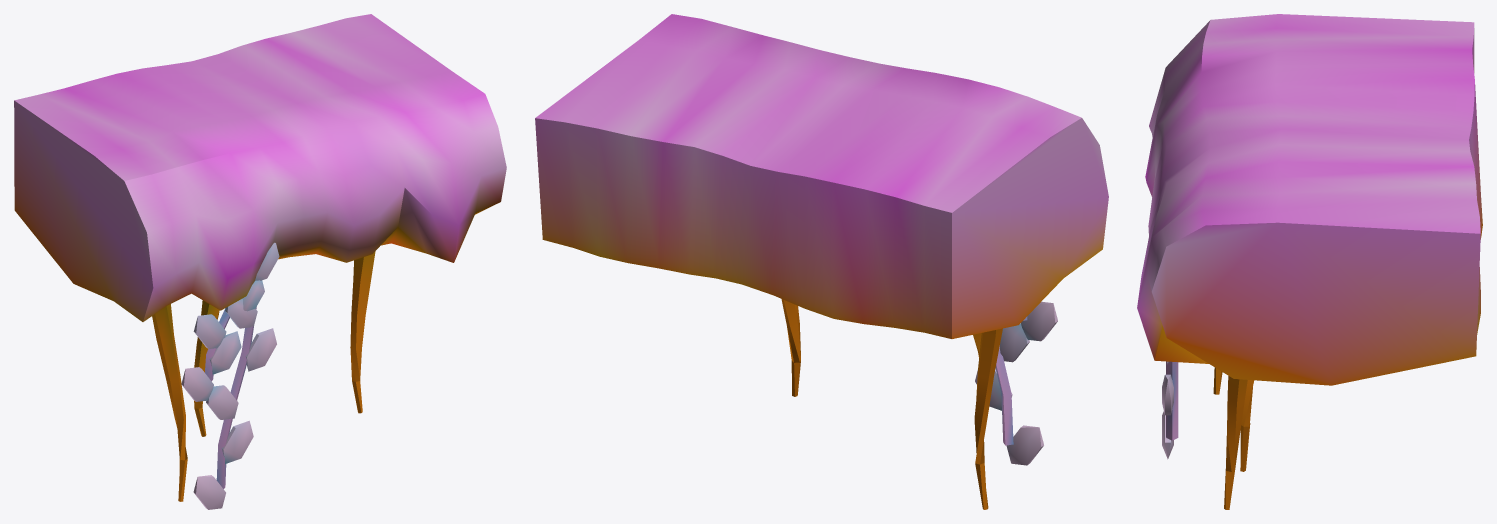
The model's file is env_lip_grass.glb.
3 views of the same model, side by side, from view 1: azimuth 30°, elevation 25°; view 2: azimuth 150°, elevation 25°; view 3: azimuth 270°, elevation 25° (orthographic). The views are drawn at different scales.
Parts seen in each view (by area): view 1: env_lip_grass; view 2: env_lip_grass; view 3: env_lip_grass.
Part boxes in pixels (x1,y1,x2,y2): env_lip_grass: [14, 14, 506, 509]; env_lip_grass: [535, 14, 1108, 509]; env_lip_grass: [1137, 14, 1482, 509].
Size of the model in its own units: 1.12 by 1.06 by 0.7856.
